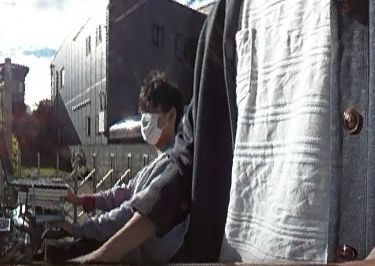person: (68, 74, 196, 252)
